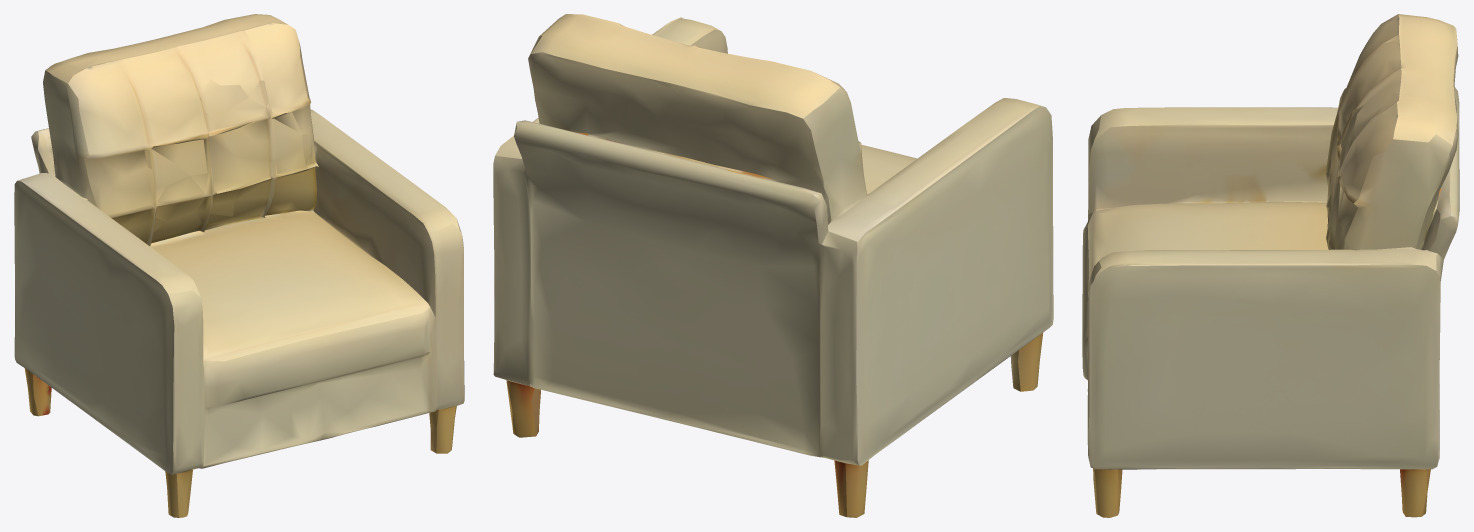
The model's file is Fauteuil2bis_3D_textured.glb.
3 views of the same model, side by side, from view 1: azimuth 30°, elevation 25°; view 2: azimuth 150°, elevation 25°; view 3: azimuth 270°, elevation 25° (orthographic). The views are drawn at different scales.
Parts seen in each view (by area): view 1: temp_mesh.ply; view 2: temp_mesh.ply; view 3: temp_mesh.ply.
Part boxes in pixels (bbox=[...]): temp_mesh.ply: bbox=[14, 14, 464, 517]; temp_mesh.ply: bbox=[493, 14, 1053, 517]; temp_mesh.ply: bbox=[1082, 14, 1459, 517].
Size of the model in its own units: 1.8 by 1.97 by 1.79.
Materials: 1 (1 with a texture image).
